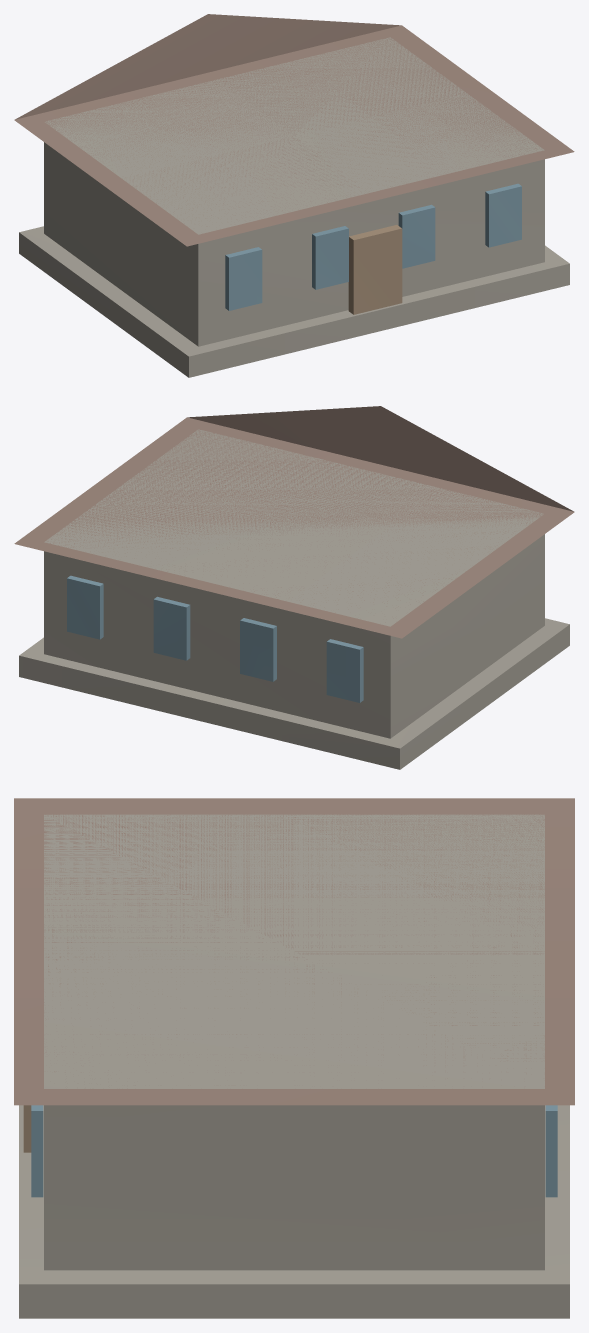
File: townhouse-06.glb
The picture shows the model from 3 angles, top to bottom: view 1: azimuth 30°, elevation 25°; view 2: azimuth 150°, elevation 25°; view 3: azimuth 270°, elevation 25°; orthographic projection. The views are drawn at different scales.
Visible parts, largest first — view 1: world; view 2: world; view 3: world.
Part boxes in pixels (x1=…): world: x1=14, y1=14, x2=574, y2=377; world: x1=14, y1=406, x2=574, y2=769; world: x1=14, y1=798, x2=574, y2=1318.
Size of the model in its own units: 1.52 by 0.72 by 1.18.
